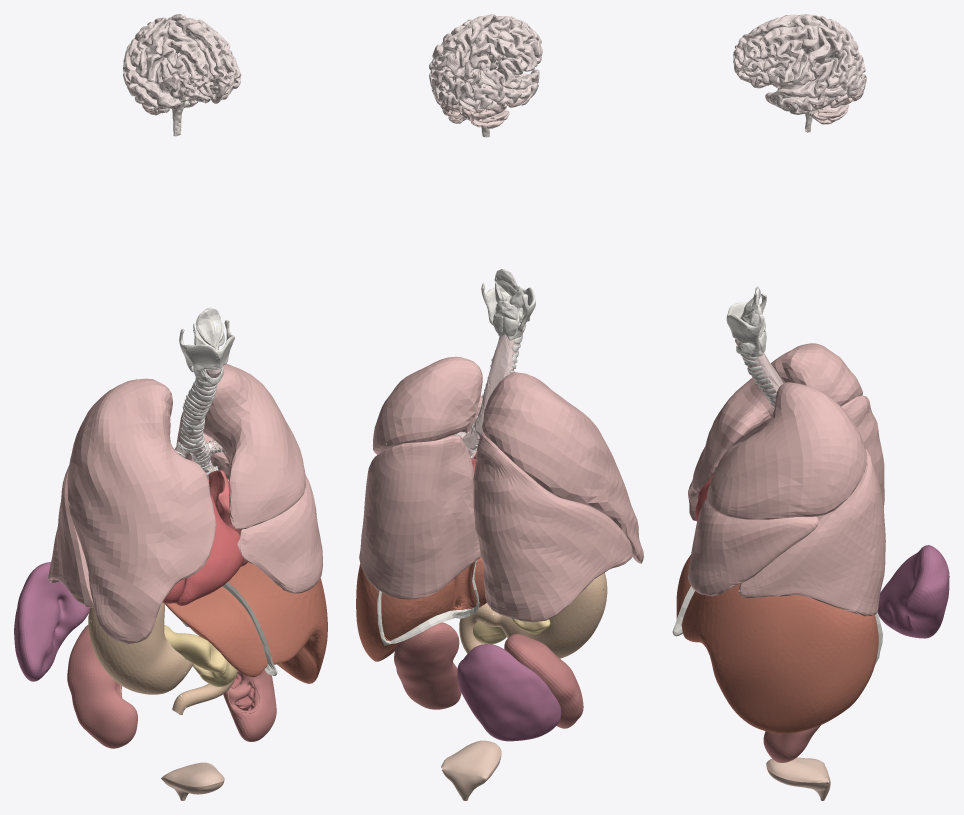
Rendered from healthguardian-organs-task2.glb.
3 views of the same model, side by side, from view 1: azimuth 30°, elevation 25°; view 2: azimuth 150°, elevation 25°; view 3: azimuth 270°, elevation 25° (orthographic).
Parts seen in each view (by area): view 1: lungs_pulmonary_parenchyma, liver_parenchyma, brain_cerebral_cortex, stomach_mucosa, spleen_parenchyma, kidney_l_capsule_hilum, heart_ventricles, lungs_laryngeal_cartilages, kidney_r_capsule_hilum, bladder_muscular_dome, lungs_tracheal_cartilage, pancreas_body_tail (+5 smaller); view 2: lungs_pulmonary_parenchyma, brain_cerebral_cortex, spleen_parenchyma, liver_parenchyma, kidney_r_capsule_hilum, stomach_mucosa, kidney_l_capsule_hilum, lungs_laryngeal_cartilages, bladder_muscular_dome, lungs_trachea_airway, brain_cerebellum, liver_falciform_ligaments (+1 smaller); view 3: lungs_pulmonary_parenchyma, liver_parenchyma, brain_cerebral_cortex, spleen_parenchyma, lungs_laryngeal_cartilages, bladder_muscular_dome, kidney_r_capsule_hilum, brain_cerebellum, lungs_trachea_airway, liver_falciform_ligaments, lungs_tracheal_cartilage.
Boxes of the visible parts, bbox=[...] form: lungs_pulmonary_parenchyma: bbox=[48, 363, 322, 643]; liver_parenchyma: bbox=[164, 562, 327, 683]; brain_cerebral_cortex: bbox=[123, 14, 241, 113]; stomach_mucosa: bbox=[88, 603, 236, 714]; spleen_parenchyma: bbox=[14, 562, 89, 681]; kidney_l_capsule_hilum: bbox=[67, 625, 137, 748]; heart_ventricles: bbox=[162, 495, 243, 605]; lungs_laryngeal_cartilages: bbox=[179, 307, 234, 386]; kidney_r_capsule_hilum: bbox=[216, 670, 276, 741]; bladder_muscular_dome: bbox=[161, 762, 224, 798]; lungs_tracheal_cartilage: bbox=[180, 378, 217, 447]; pancreas_body_tail: bbox=[164, 625, 218, 671]; lungs_pulmonary_parenchyma: bbox=[359, 356, 643, 622]; brain_cerebral_cortex: bbox=[429, 14, 542, 113]; spleen_parenchyma: bbox=[457, 644, 561, 741]; liver_parenchyma: bbox=[356, 557, 486, 661]; kidney_r_capsule_hilum: bbox=[394, 622, 461, 709]; stomach_mucosa: bbox=[459, 572, 607, 658]; kidney_l_capsule_hilum: bbox=[504, 634, 583, 728]; lungs_laryngeal_cartilages: bbox=[481, 269, 535, 340]; bladder_muscular_dome: bbox=[441, 740, 501, 798]; lungs_trachea_airway: bbox=[386, 310, 519, 457]; brain_cerebellum: bbox=[432, 89, 526, 128]; liver_falciform_ligaments: bbox=[377, 560, 479, 645]; lungs_pulmonary_parenchyma: bbox=[688, 343, 885, 616]; liver_parenchyma: bbox=[676, 555, 878, 733]; brain_cerebral_cortex: bbox=[733, 14, 866, 117]; spleen_parenchyma: bbox=[877, 545, 949, 638]; lungs_laryngeal_cartilages: bbox=[726, 286, 766, 356]; bladder_muscular_dome: bbox=[766, 757, 830, 798]; kidney_r_capsule_hilum: bbox=[763, 725, 820, 762]; brain_cerebellum: bbox=[812, 78, 866, 124]; lungs_trachea_airway: bbox=[735, 338, 865, 470]; liver_falciform_ligaments: bbox=[672, 586, 882, 664]; lungs_tracheal_cartilage: bbox=[740, 353, 776, 410].
Bounding box in the file's own units: 0.2677 × 0.8197 × 0.2654.
